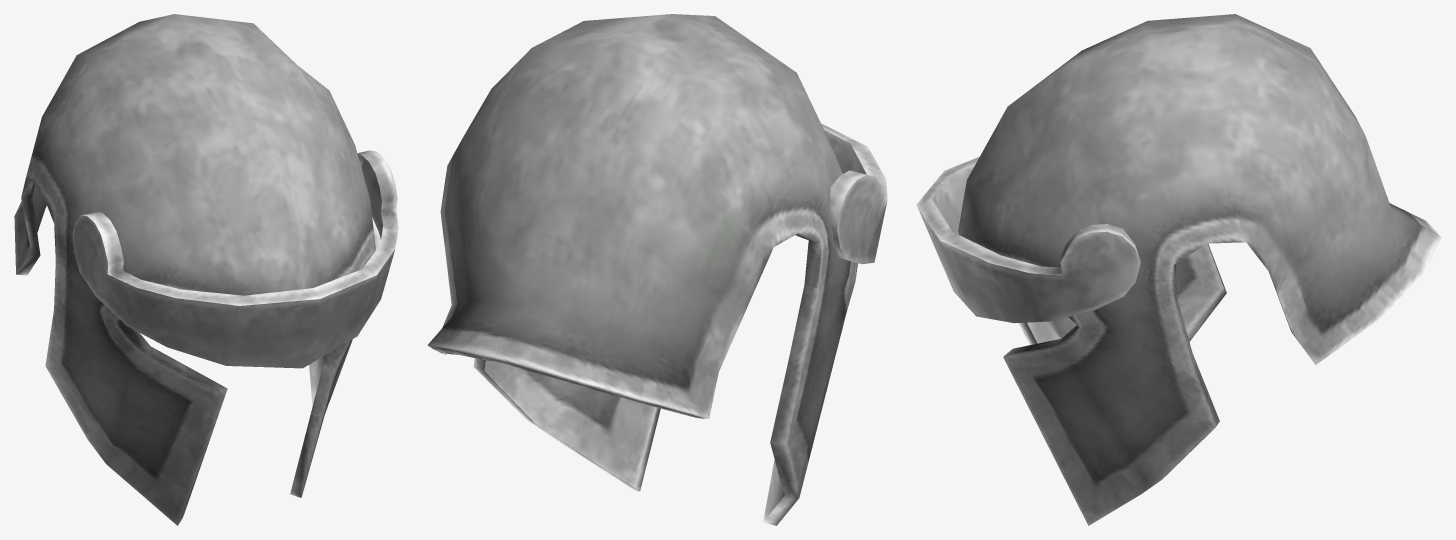
Rendered from rider-helmet-slice-heavyarchers.glb.
3 views of the same model, side by side, from view 1: azimuth 30°, elevation 25°; view 2: azimuth 150°, elevation 25°; view 3: azimuth 270°, elevation 25° (orthographic). The views are drawn at different scales.
Bounding box in the file's own units: 0.2602 × 0.3807 × 0.3857.
Materials: 1 (1 with a texture image).
